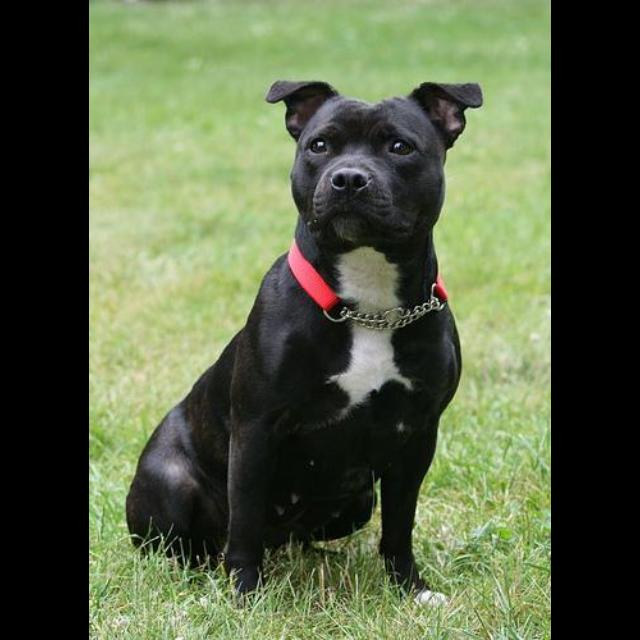staffford: (125, 78, 484, 610)
